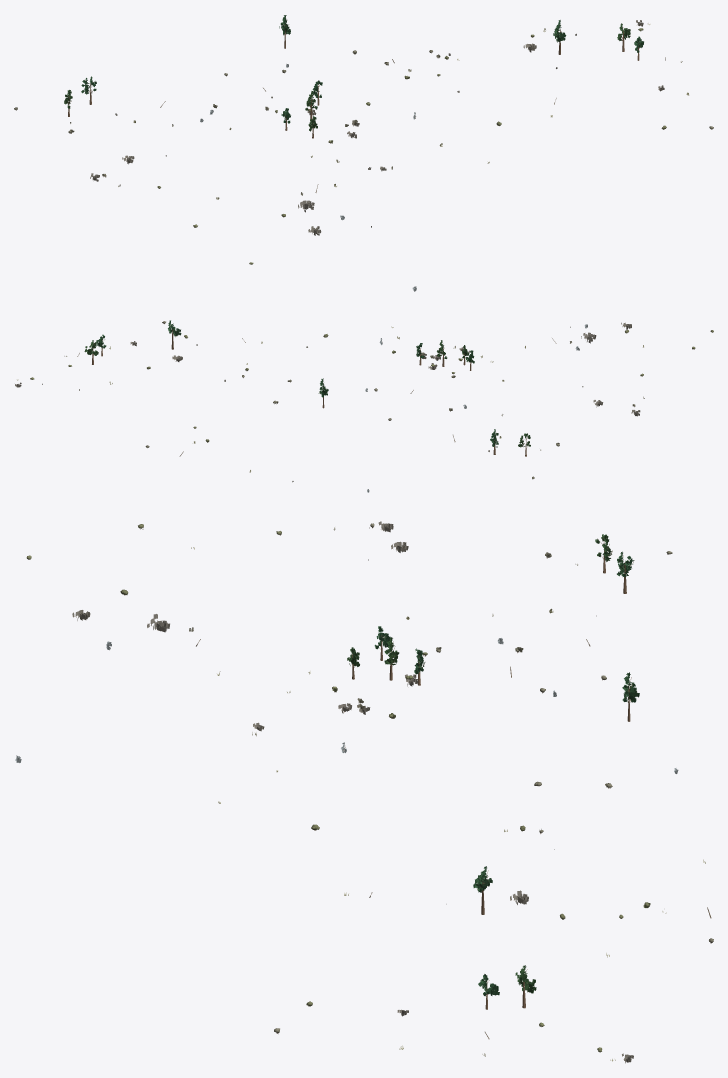
Rendered from coast_land_scatter_c13_20.glb.
3 views of the same model, one above another, from view 1: azimuth 30°, elevation 25°; view 2: azimuth 150°, elevation 25°; view 3: azimuth 270°, elevation 25° (orthographic). The views are drawn at different scales.
Parts seen in each view (by area): view 1: coast_land_scatter_c13_20; view 2: coast_land_scatter_c13_20; view 3: coast_land_scatter_c13_20.
Boxes of the visible parts, box(x1,y1,x2,y2) form: coast_land_scatter_c13_20: box(14, 15, 713, 291); coast_land_scatter_c13_20: box(15, 320, 713, 492); coast_land_scatter_c13_20: box(15, 521, 713, 1063).
Size of the model in its own units: 227 by 35.34 by 149.
